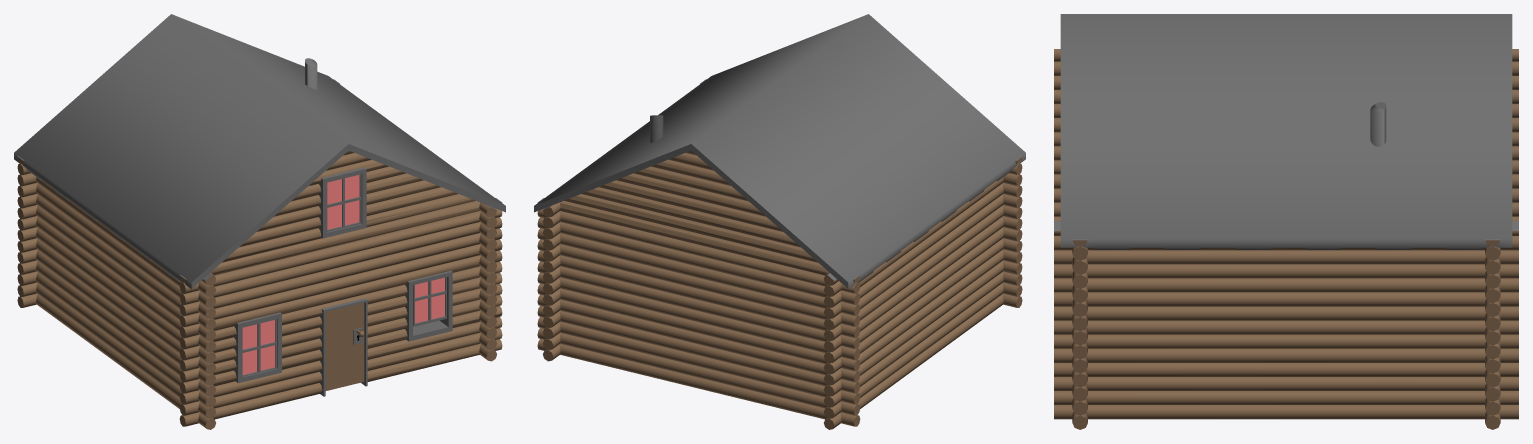
Rendered from cabin.fbx.
3 views of the same model, side by side, from view 1: azimuth 30°, elevation 25°; view 2: azimuth 150°, elevation 25°; view 3: azimuth 270°, elevation 25° (orthographic). The views are drawn at different scales.
Visible parts, largest first — view 1: Cube_1, door; view 2: Cube_1; view 3: Cube_1.
Part boxes in pixels (left/top/right/bottom): Cube_1: left=14, top=14, right=505, bottom=429; door: left=325, top=302, right=364, bottom=390; Cube_1: left=534, top=14, right=1025, bottom=429; Cube_1: left=1054, top=14, right=1518, bottom=429.
Bounding box in the file's own units: 883 × 666 × 883.
